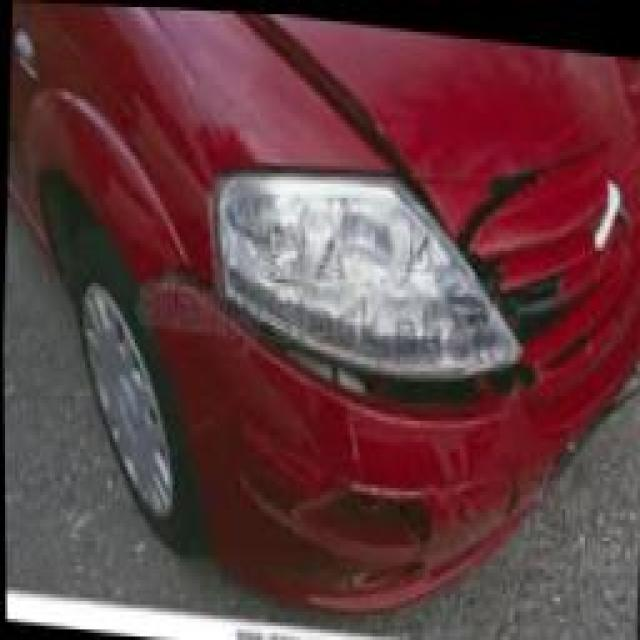Bonnet: (249, 10, 640, 228)
Bumper: (143, 270, 590, 604)
